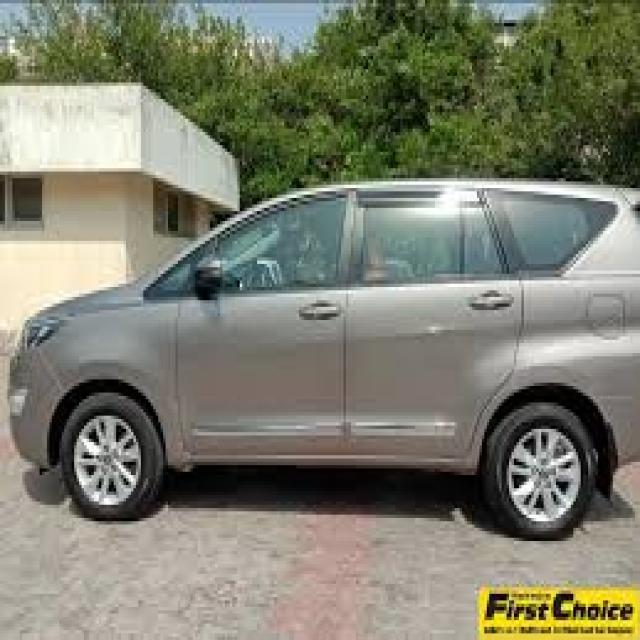light_vehicle: (8, 180, 640, 538)
